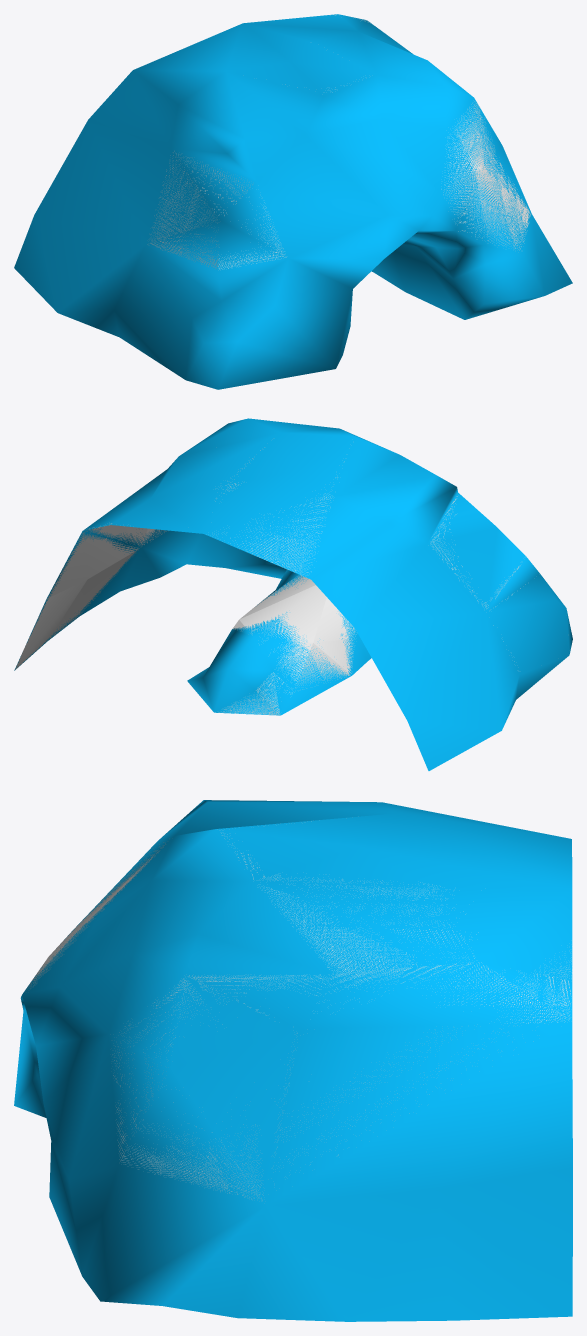
The model's file is PF_Rock_Cave.glb.
3 renders of one model, top to bottom at view 1: azimuth 30°, elevation 25°; view 2: azimuth 150°, elevation 25°; view 3: azimuth 270°, elevation 25°, orthographic. The views are drawn at different scales.
Visible parts, largest first — view 1: SM_Rock_Cave-gcc-stone, SM_Rock_Cave; view 2: SM_Rock_Cave-gcc-stone, SM_Rock_Cave; view 3: SM_Rock_Cave-gcc-stone, SM_Rock_Cave.
Part boxes in pixels (bbox=[...]): SM_Rock_Cave-gcc-stone: bbox=[14, 14, 572, 389]; SM_Rock_Cave: bbox=[147, 14, 530, 269]; SM_Rock_Cave-gcc-stone: bbox=[14, 418, 572, 770]; SM_Rock_Cave: bbox=[15, 447, 525, 715]; SM_Rock_Cave-gcc-stone: bbox=[14, 800, 572, 1321]; SM_Rock_Cave: bbox=[26, 821, 571, 1200].
Bounding box in the file's own units: 34 × 15.28 × 24.41.
